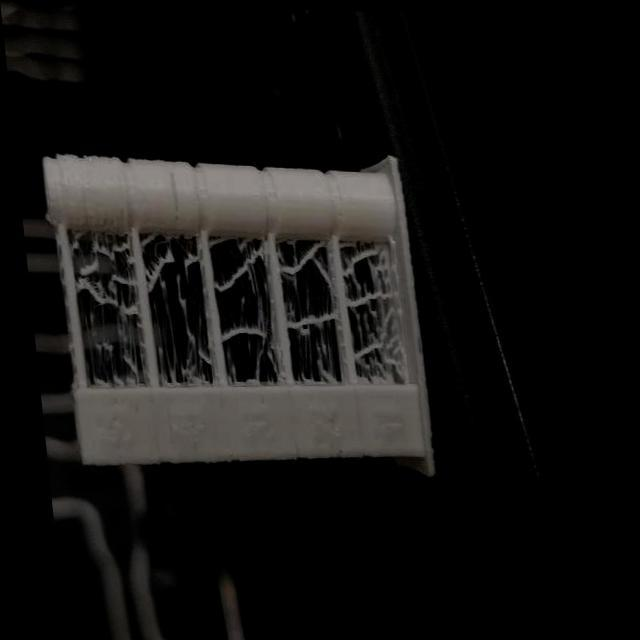stringing: (70, 241, 132, 386), (143, 238, 200, 375), (211, 242, 265, 378), (342, 238, 396, 372), (282, 243, 328, 380)
